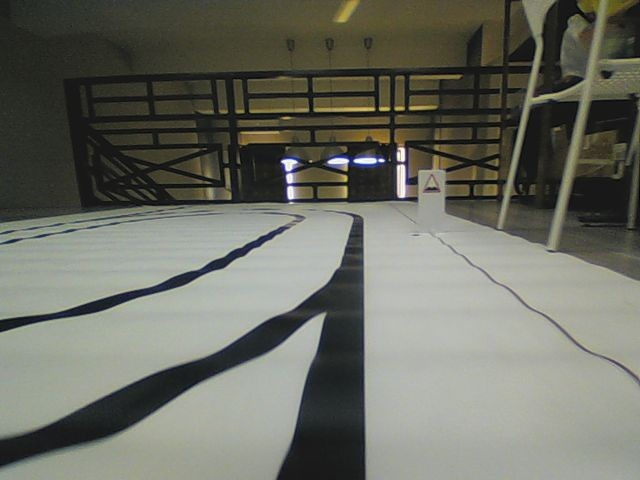Nerov: (421, 172, 441, 194)
